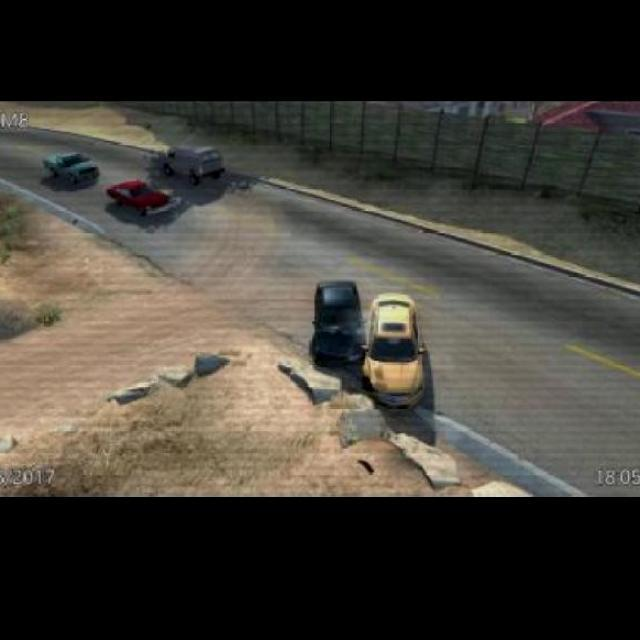accident: (313, 309, 427, 395)
